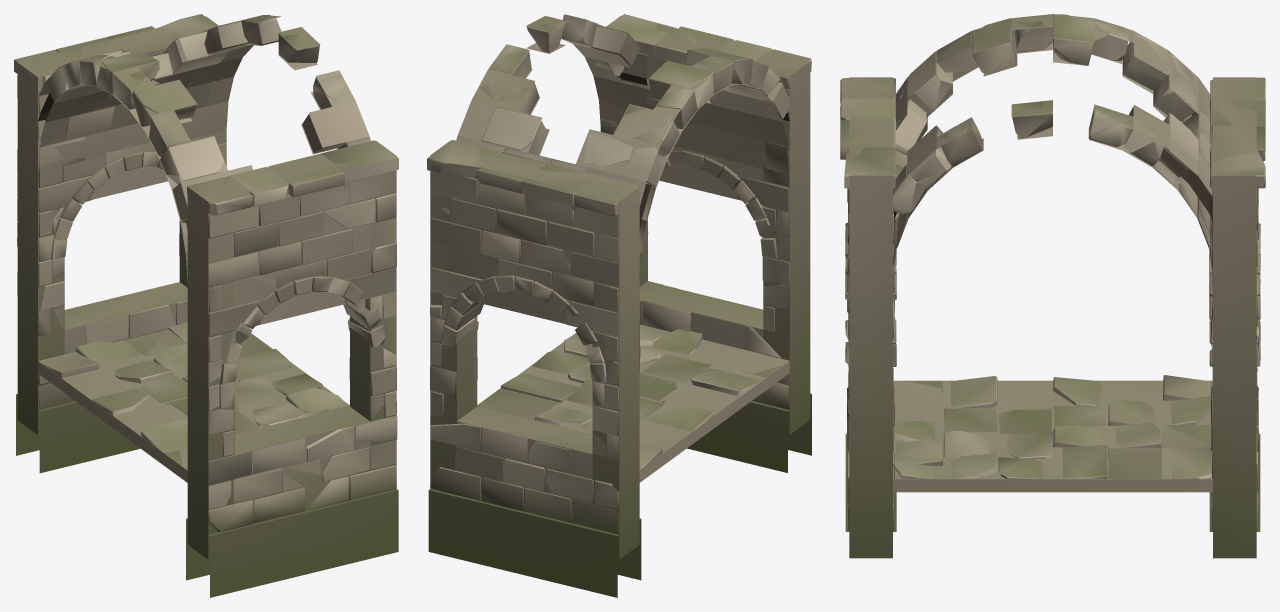
Rendered from baths_hall_broken.glb.
3 views of the same model, side by side, from view 1: azimuth 30°, elevation 25°; view 2: azimuth 150°, elevation 25°; view 3: azimuth 270°, elevation 25° (orthographic). The views are drawn at different scales.
Parts seen in each view (by area): view 1: baths_hall_broken, baths_hall_broken_far; view 2: baths_hall_broken, baths_hall_broken_far; view 3: baths_hall_broken_far, baths_hall_broken.
Boxes of the visible parts, bbox=[...] form: baths_hall_broken: bbox=[14, 14, 398, 597]; baths_hall_broken_far: bbox=[17, 15, 396, 559]; baths_hall_broken: bbox=[427, 14, 811, 597]; baths_hall_broken_far: bbox=[430, 14, 810, 559]; baths_hall_broken_far: bbox=[849, 14, 1256, 558]; baths_hall_broken: bbox=[840, 14, 1265, 531].
Bounding box in the file's own units: 16 × 36.82 × 29.22.
